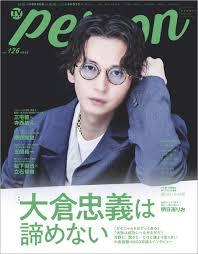Persons: (59, 10, 159, 116)
